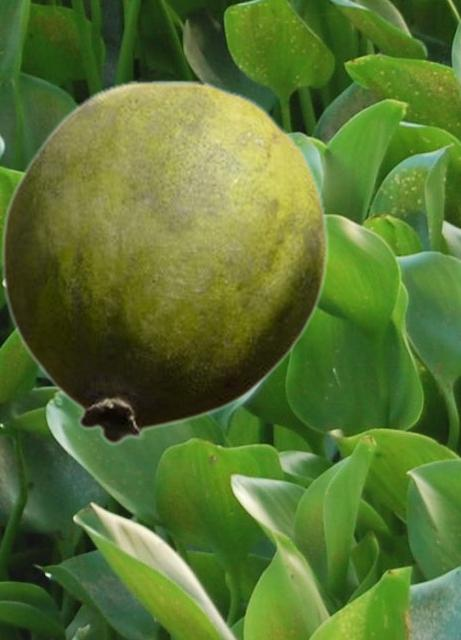guava: (0, 79, 329, 444)
